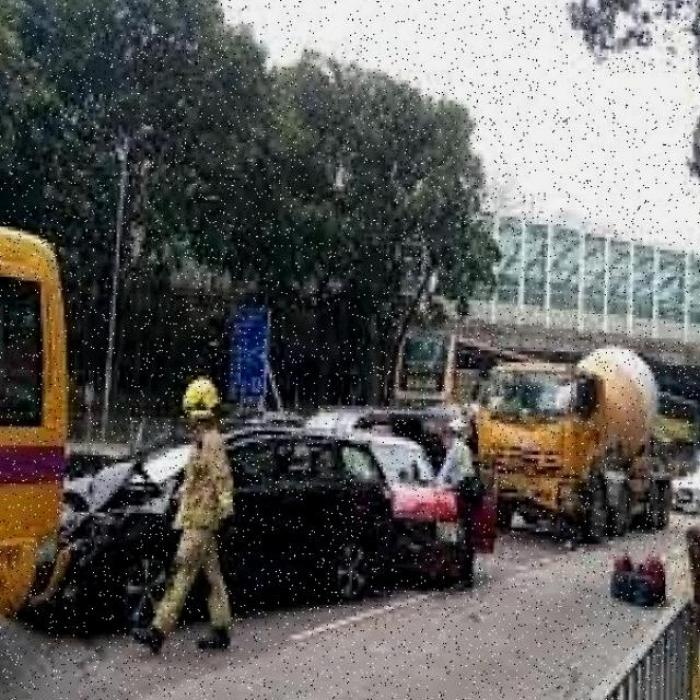Accident: (36, 398, 214, 656), (322, 435, 482, 596)
